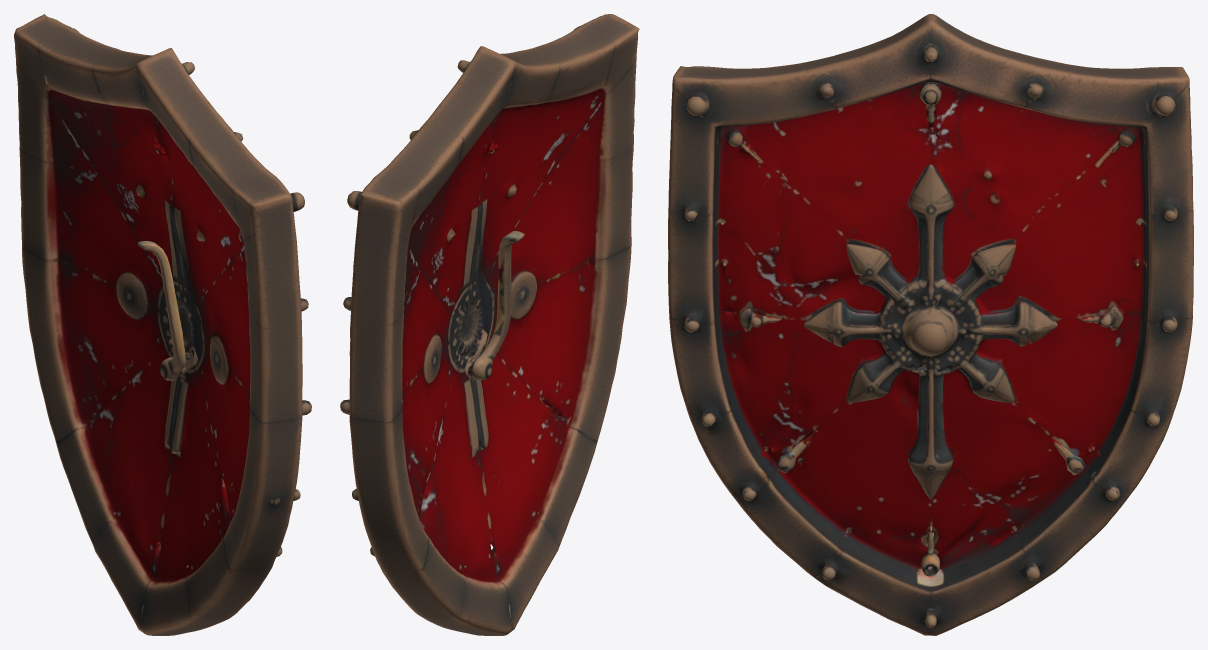
Rendered from shield.fbx.
3 renders of one model, left to right at view 1: azimuth 30°, elevation 25°; view 2: azimuth 150°, elevation 25°; view 3: azimuth 270°, elevation 25°, orthographic. The views are drawn at different scales.
Visible parts, largest first — view 1: tripo_node_d4a20d69; view 2: tripo_node_d4a20d69; view 3: tripo_node_d4a20d69.
Boxes of the visible parts, x1,y1,x2,y2 form: tripo_node_d4a20d69: [14, 14, 311, 635]; tripo_node_d4a20d69: [340, 14, 639, 635]; tripo_node_d4a20d69: [668, 14, 1193, 635].
Size of the model in its own units: 16.47 by 99.47 by 77.34.
Materials: 1 (1 with a texture image).
